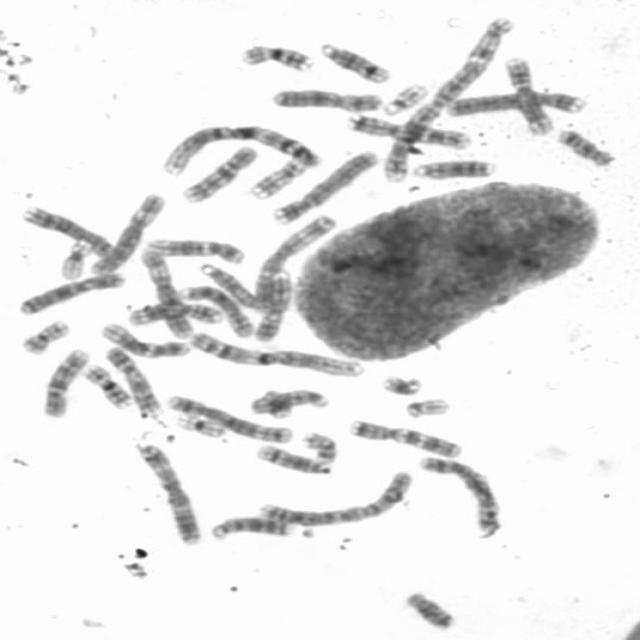A1: (158, 120, 323, 176), (186, 328, 364, 378)
A2: (378, 10, 516, 186), (253, 467, 415, 528)
A3: (252, 211, 338, 314), (133, 438, 203, 546)
B4: (268, 147, 380, 225), (441, 86, 591, 118)
B5: (414, 452, 504, 537), (162, 392, 290, 444)
C10: (176, 142, 261, 206), (37, 345, 92, 419)
C11: (496, 53, 556, 137), (124, 300, 225, 330)
C12: (97, 319, 190, 359), (144, 234, 248, 265)
C6: (86, 190, 169, 276), (138, 245, 196, 339)
C7: (342, 111, 471, 151), (344, 416, 463, 459)
C8: (19, 203, 114, 258), (178, 282, 256, 339)
C9: (102, 344, 162, 415), (253, 270, 296, 343)
D13: (206, 513, 293, 541), (409, 156, 497, 180)
D14: (315, 39, 391, 85), (251, 441, 334, 476)
D15: (244, 385, 331, 417), (199, 260, 256, 308)
E16: (79, 363, 134, 410), (236, 42, 314, 74)
E17: (245, 156, 310, 200)
E18: (552, 125, 614, 168), (401, 587, 457, 631)
F19: (54, 238, 94, 281), (172, 411, 226, 439)
F20: (18, 318, 73, 356), (299, 428, 339, 465)
G21: (378, 371, 423, 397), (260, 387, 293, 421)
G22: (378, 80, 431, 116), (401, 395, 452, 419)
X: (12, 269, 127, 316), (267, 86, 384, 113)
